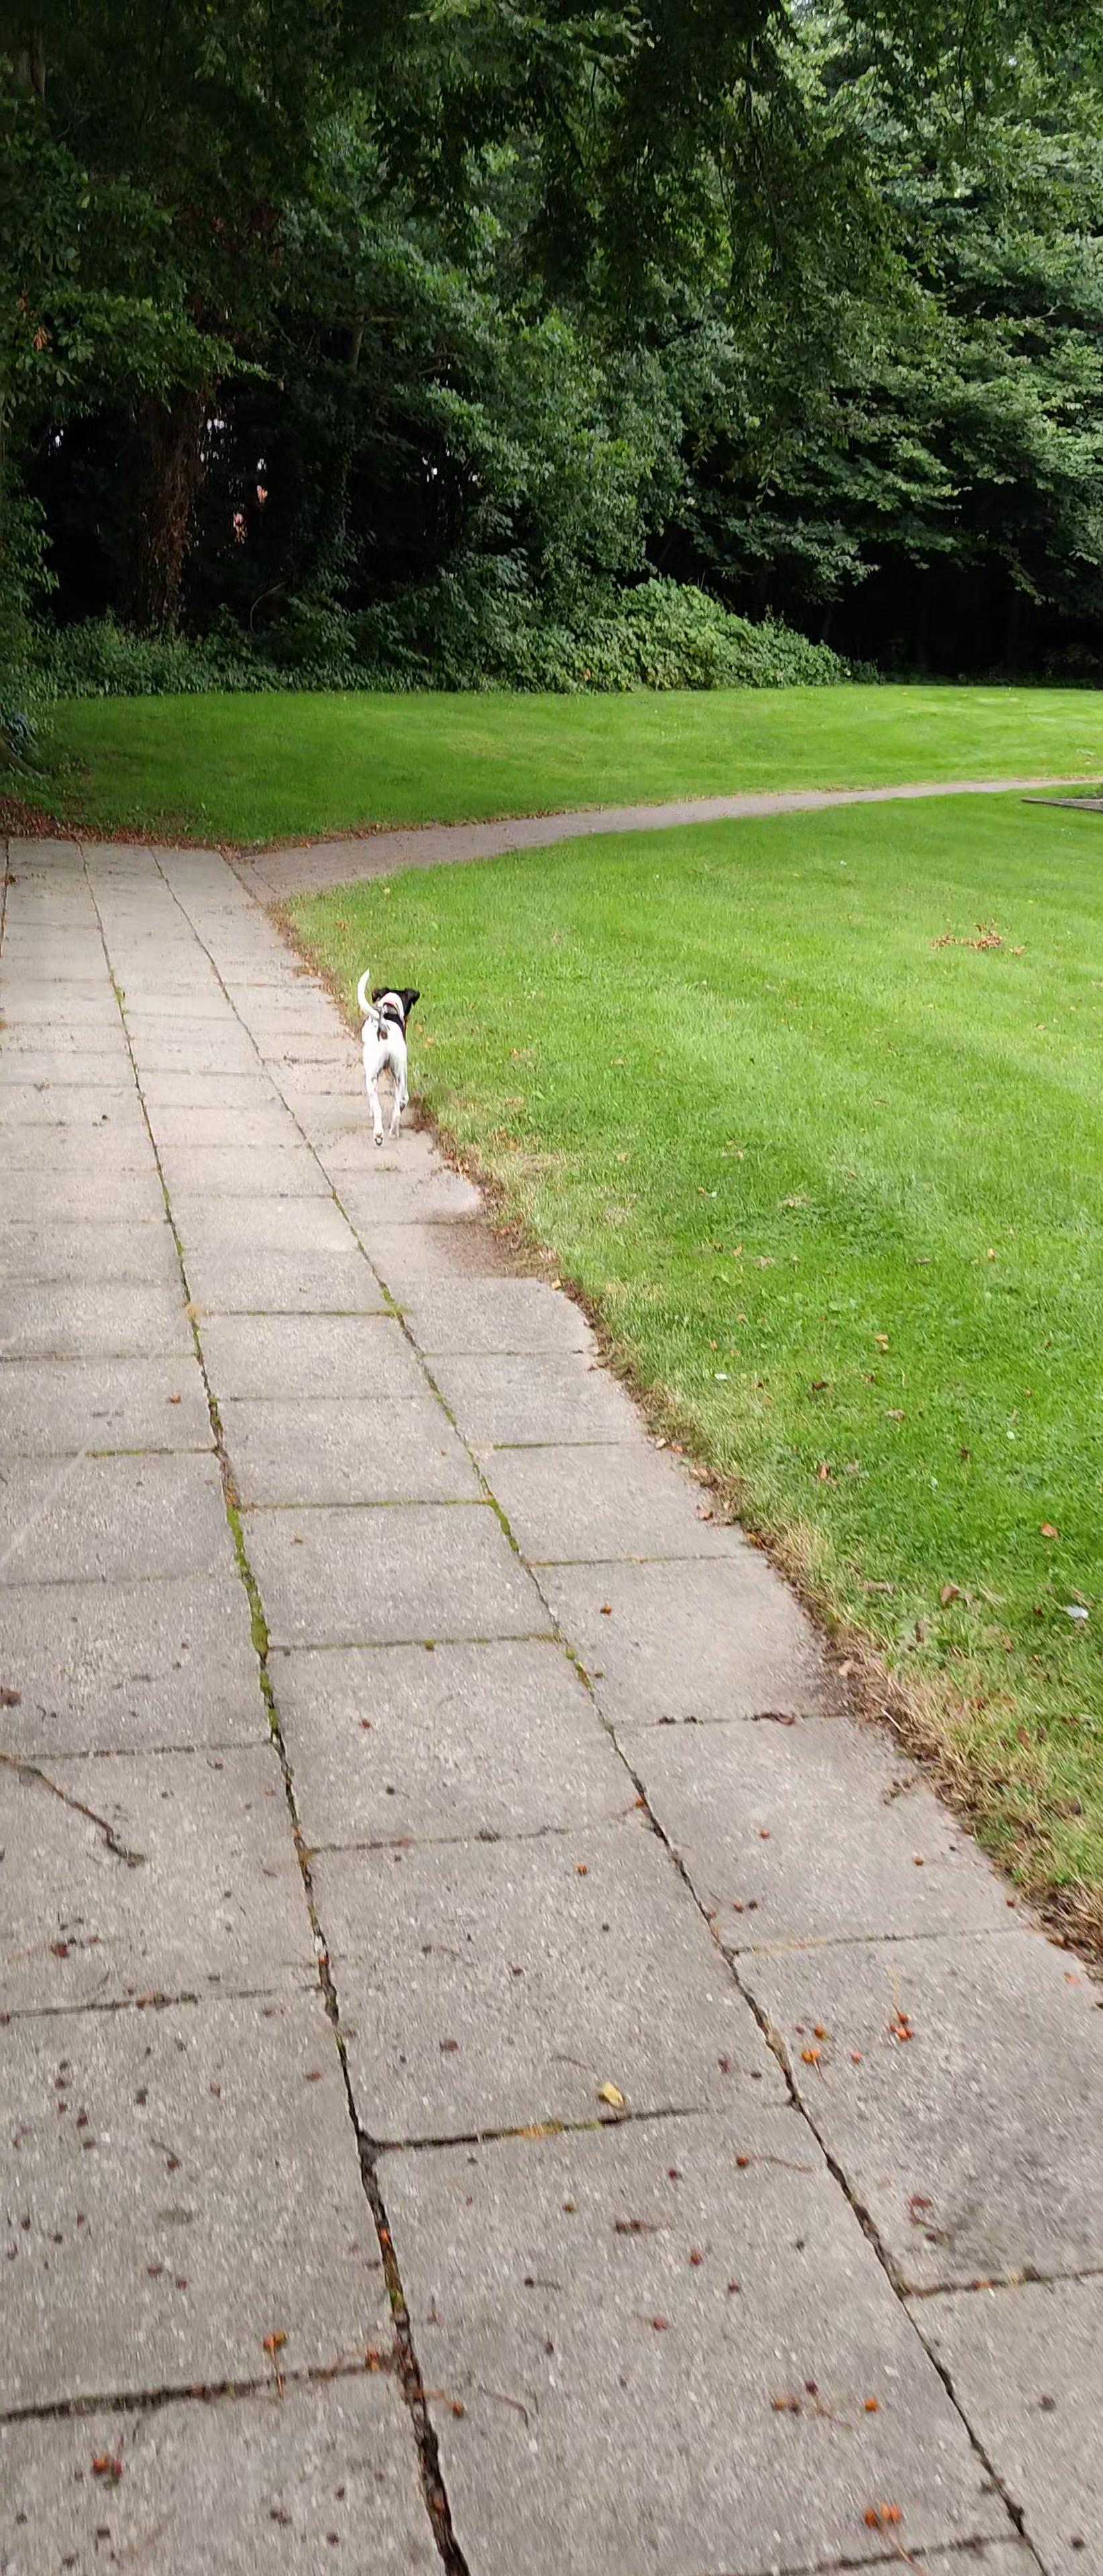Dog: (350, 966, 422, 1148)
